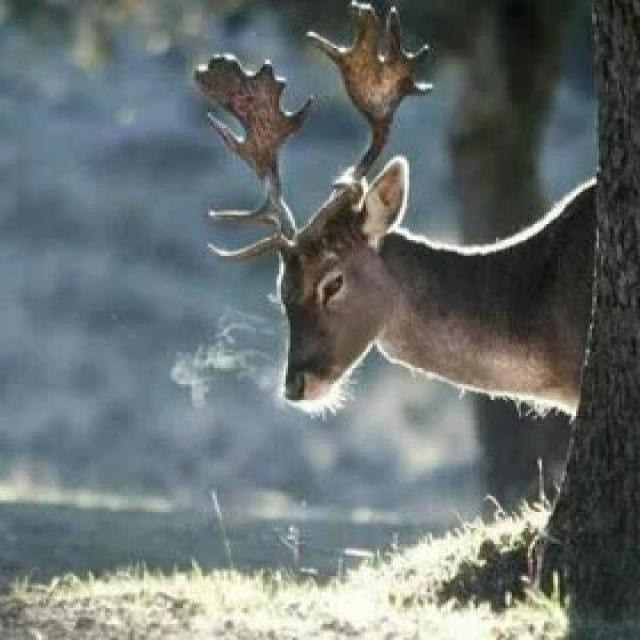deer: (209, 63, 640, 433)
